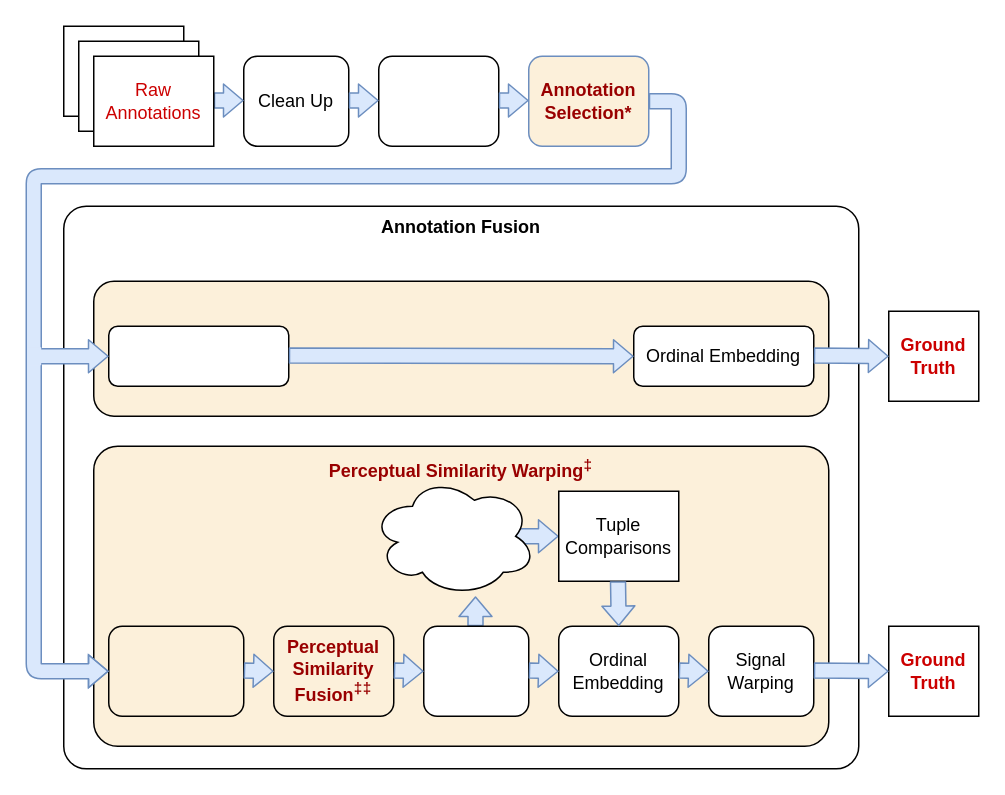
The diagram is 1005 pixels wide and 795 high, and some of its shapes have lost their labels. Each missing label, with the box of its shape:
Constant Interval Extraction: (422, 625, 529, 716)
Crowd-sourced Comparison: (370, 475, 536, 596)
Frame-wise Ordinal Triplet Embedding †: (92, 280, 829, 416)
Frame-wise Tuple Extraction: (107, 325, 289, 386)
Perceptual Similarity Regression ††: (107, 625, 244, 716)
Temporal Alignment: (377, 55, 499, 146)
